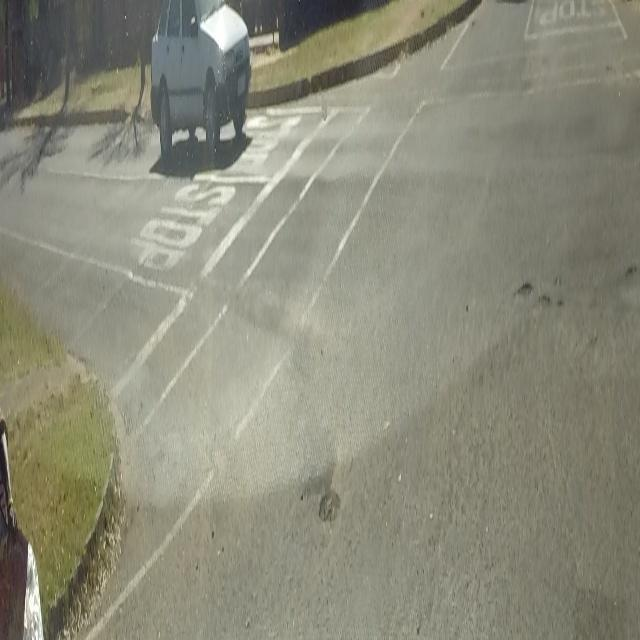pothole: (514, 273, 563, 312), (316, 479, 342, 527), (624, 260, 639, 284)
